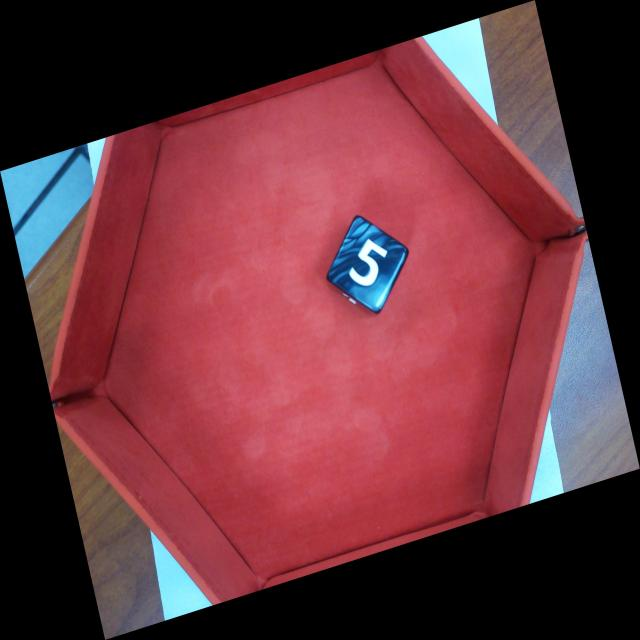dice: (328, 213, 407, 313)
